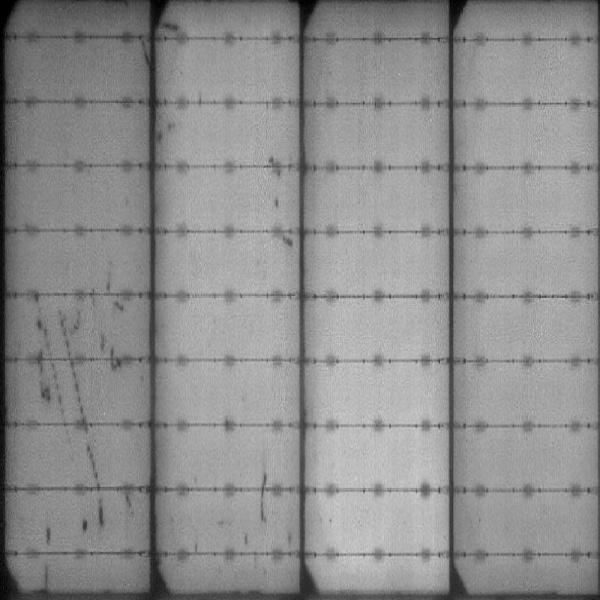scratch: (32, 316, 62, 420), (78, 427, 109, 527), (63, 312, 83, 420), (255, 466, 270, 522), (42, 523, 54, 591)
